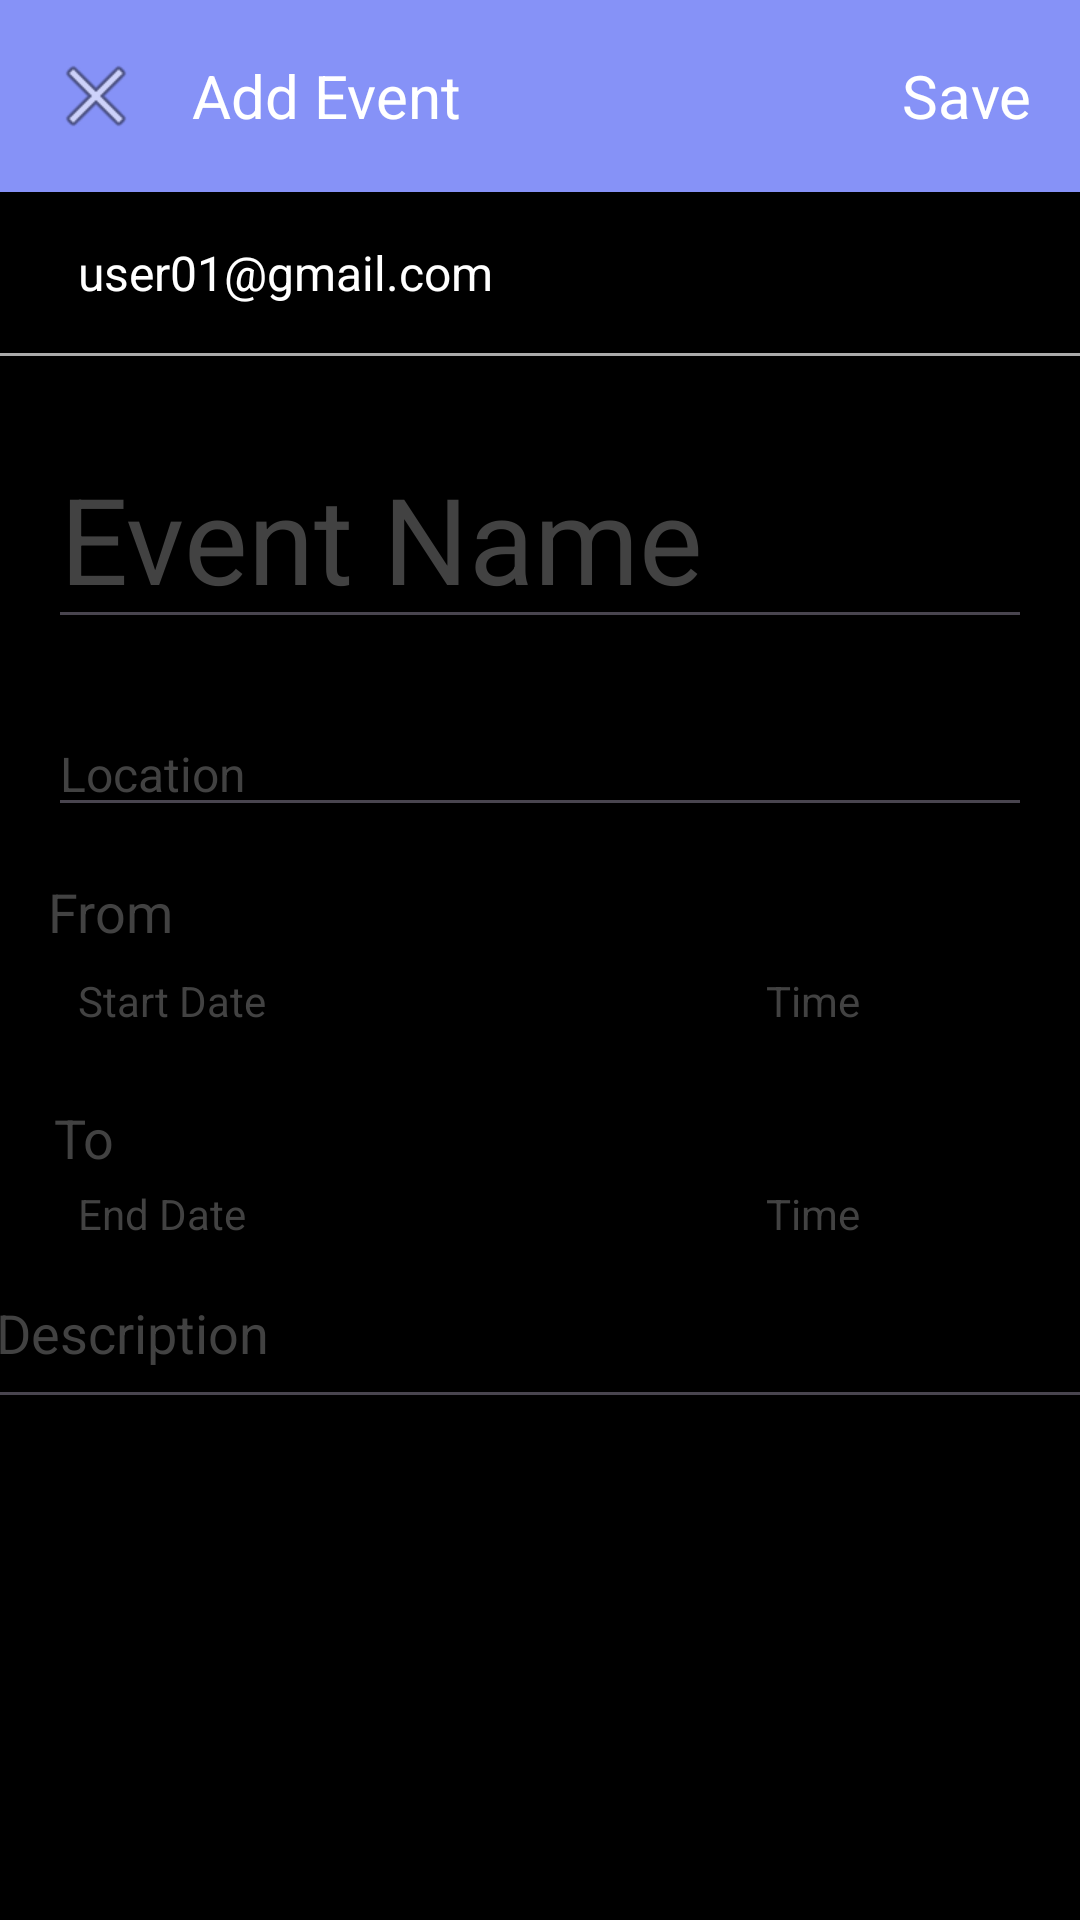

Screen size 1080px×1920px. Icon name, then its center in pixels as [x,y]:
close clear cancel: [96,96]
